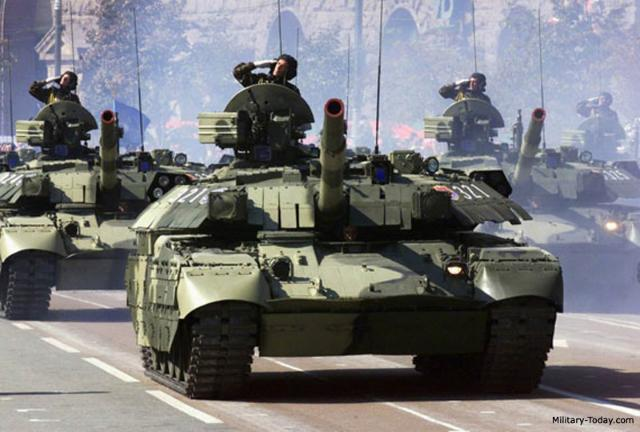other: (568, 86, 622, 148), (230, 53, 312, 87), (436, 70, 504, 104), (29, 68, 87, 104)
tank: (153, 147, 553, 382), (0, 140, 156, 304), (476, 141, 640, 289)
